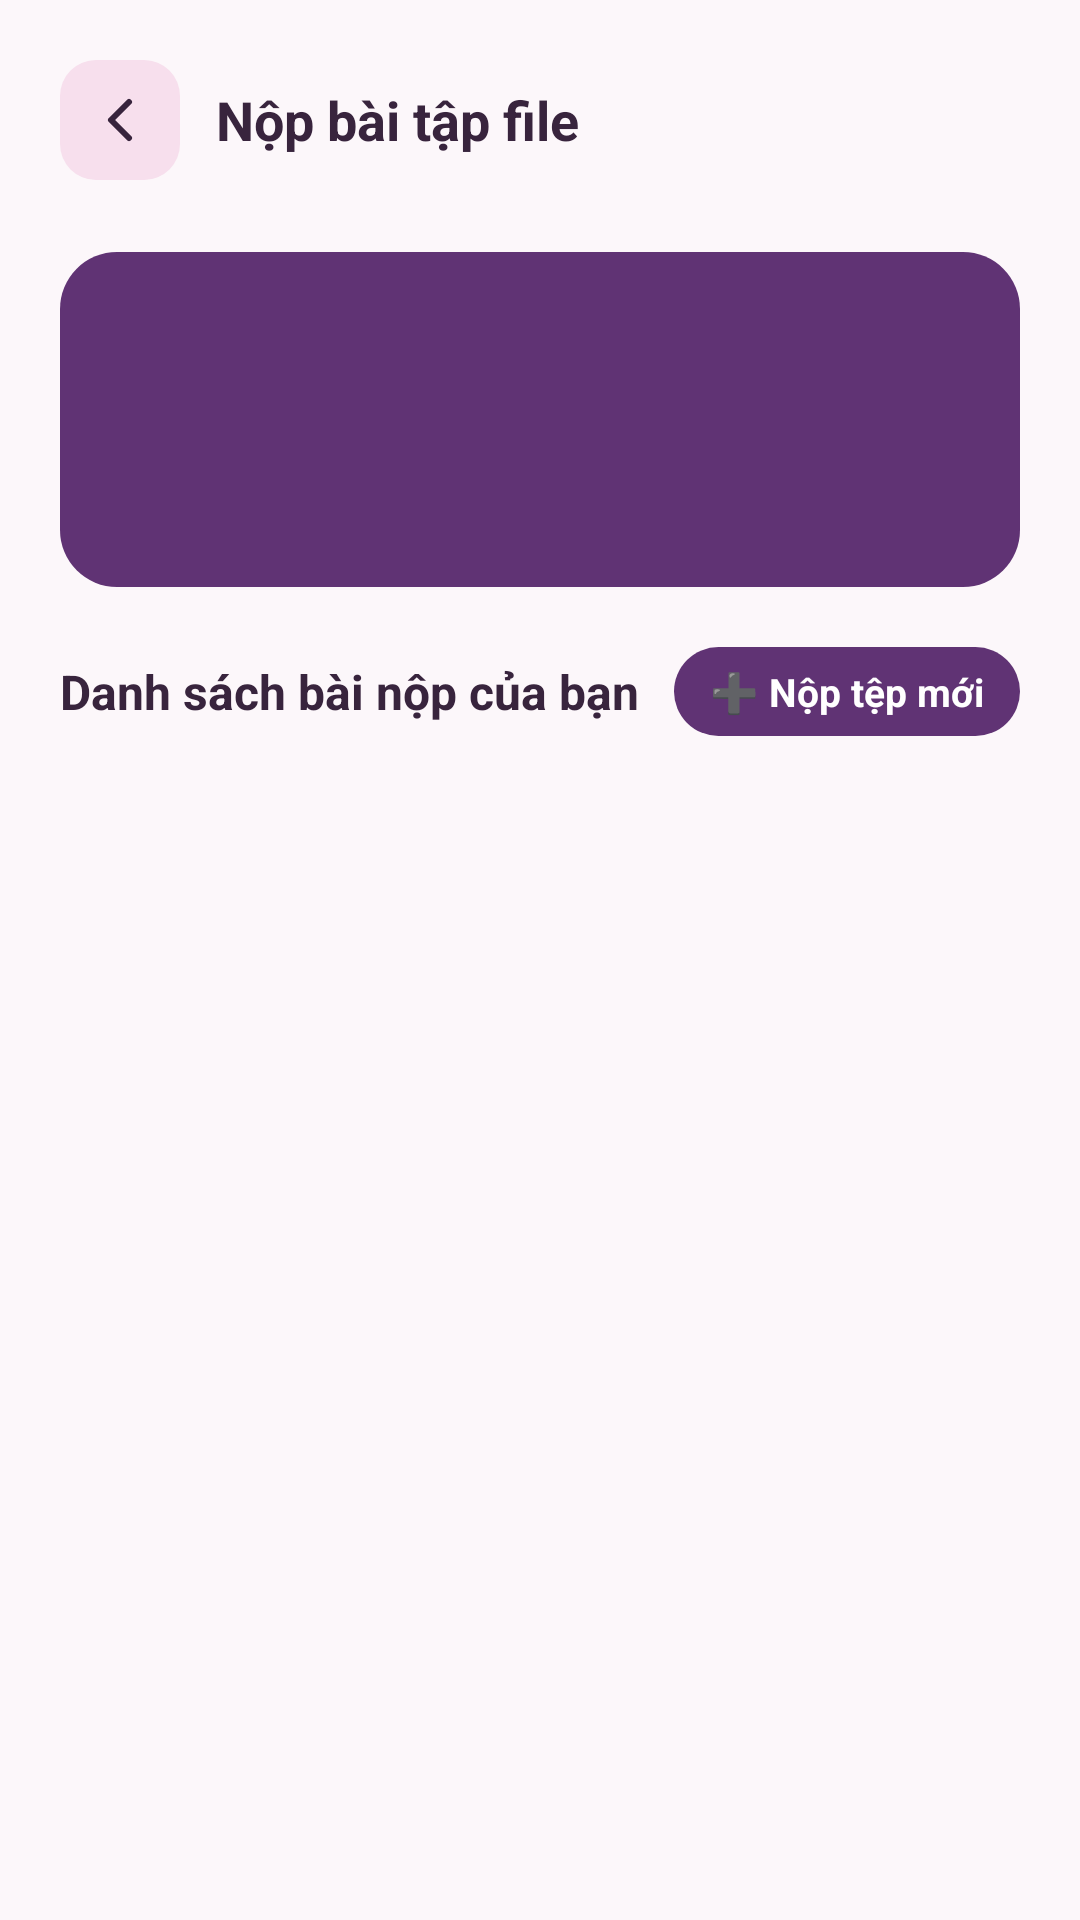

Named icons in this screenshot (1080 x 1920) and their centers, point (x, y):
Quay lại: point (120, 120)
